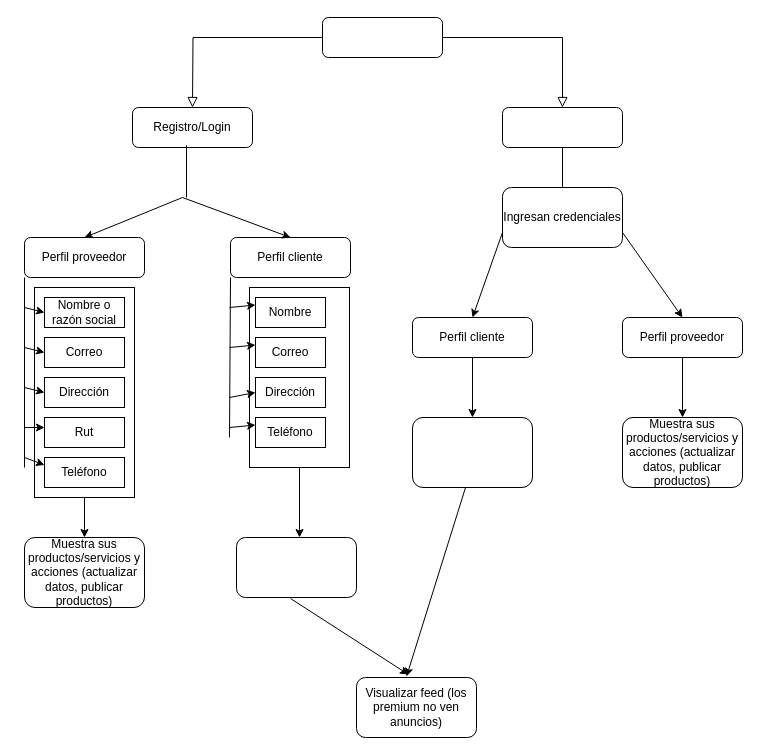
The diagram is 760 pixels wide and 755 high, and some of its shapes have lost their labels. Here are the shapes that lost their labels. From the top down, the box of each, then its label:
(322, 16, 442, 58): Home
(502, 106, 622, 148): Ingreso
(412, 416, 532, 488): Muestra las mascotas y acciones (añadir, eliminar, modificar, cosa premium)
(236, 536, 356, 598): Crear ficha mascota (ingresa los datos)
